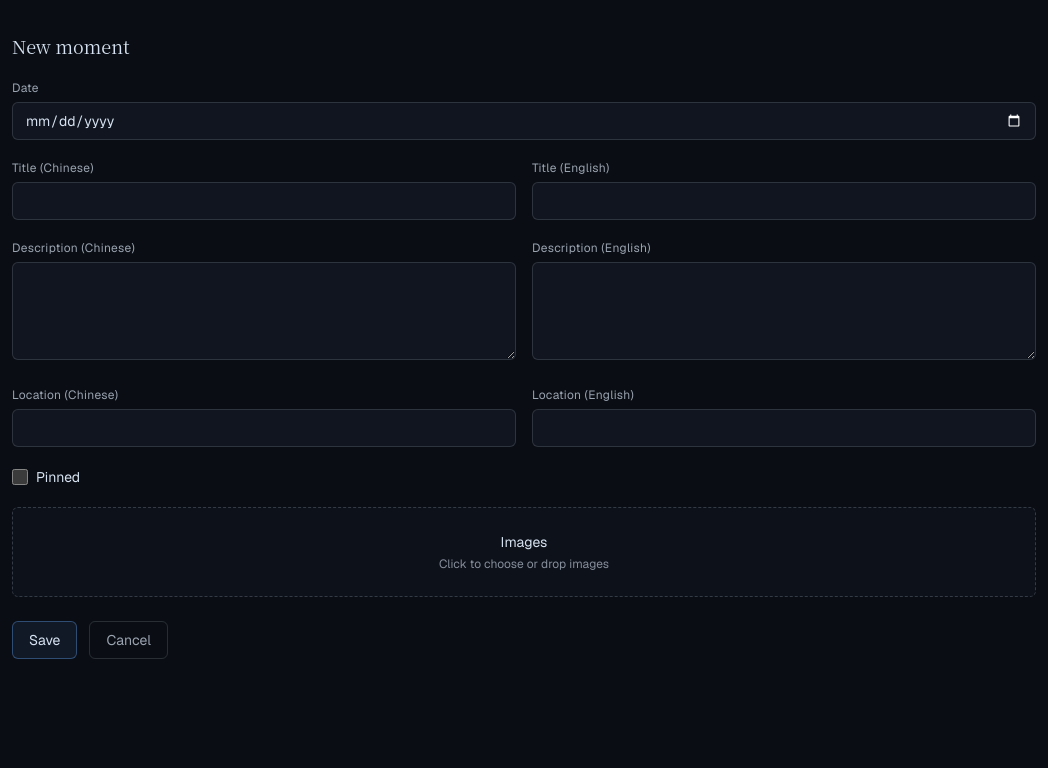
MomentForm edit mode › shows admin.saveFailed when the request throws (network down)
This screenshot has width=1048, height=768.
In the date field labelled "Date": (524, 121) [12,102,1036,140], type "2026-05-04"
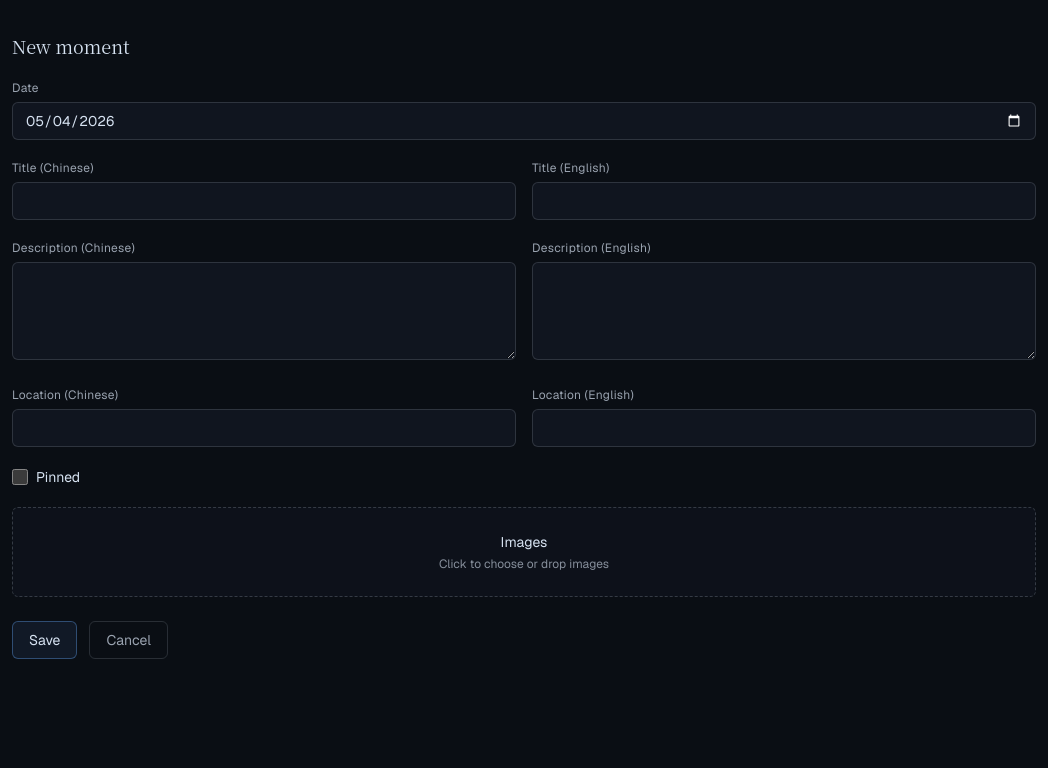
In the field labelled "Title (Chinese)": (264, 201) [12,182,516,220], type "登山"
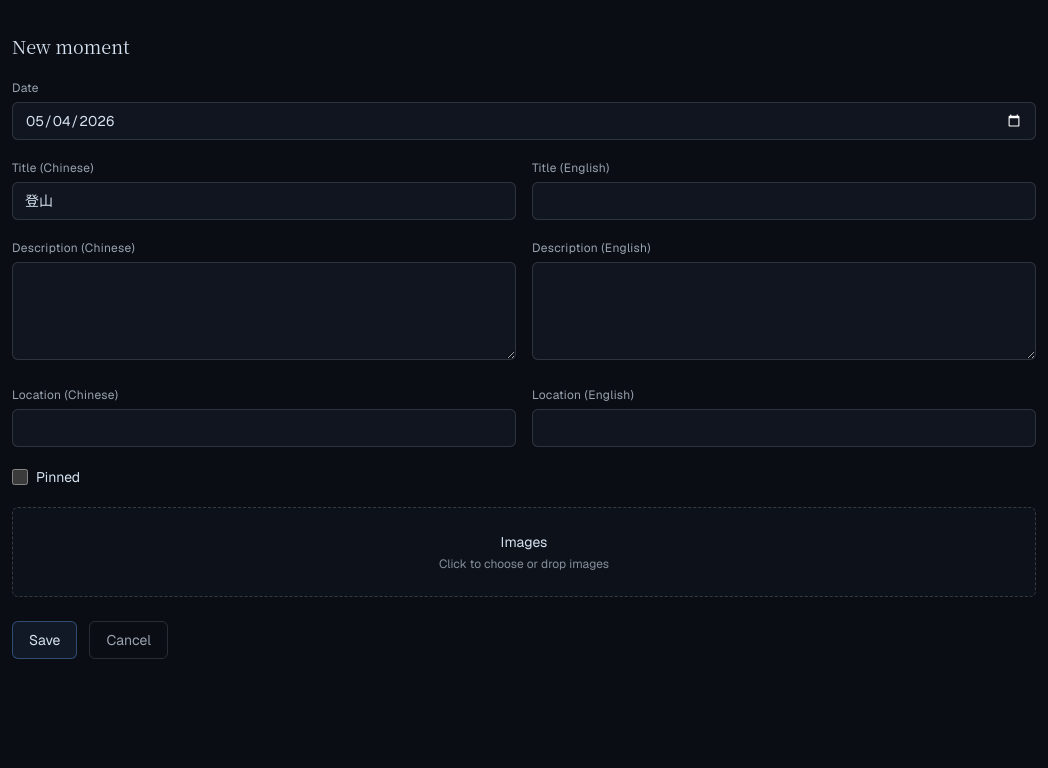
Click the button "Save": (45, 640) [12,621,78,659]
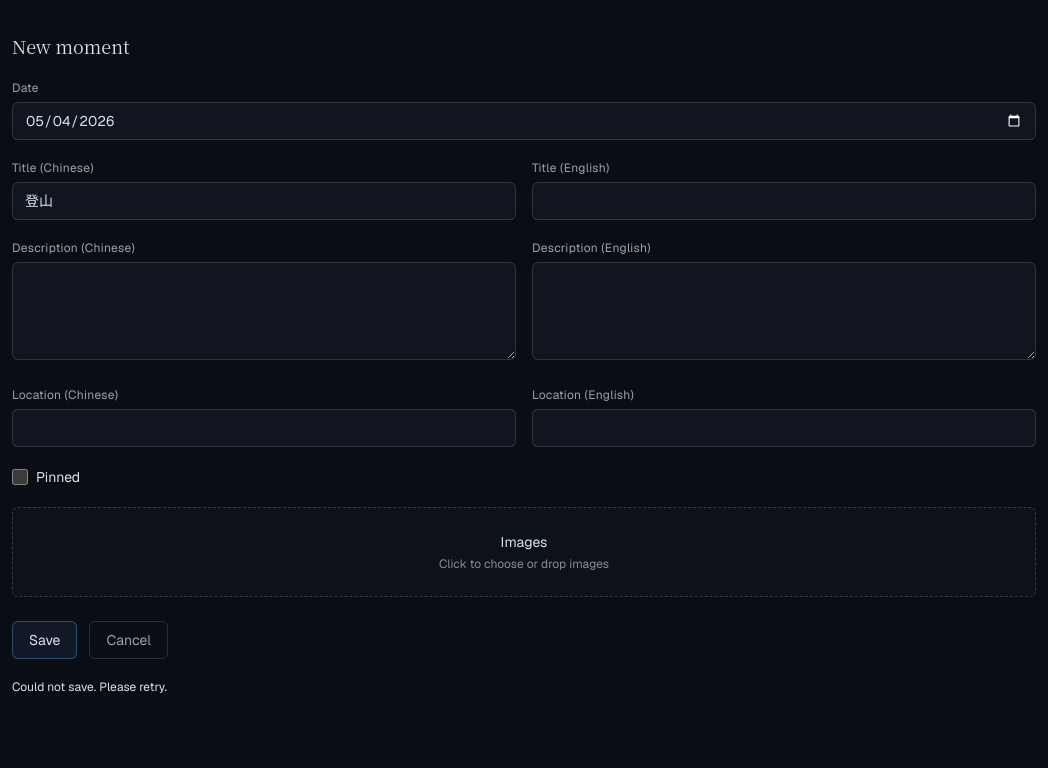
Expected: the text "Could not save. Please retry." is shown, [12,679,167,695]
